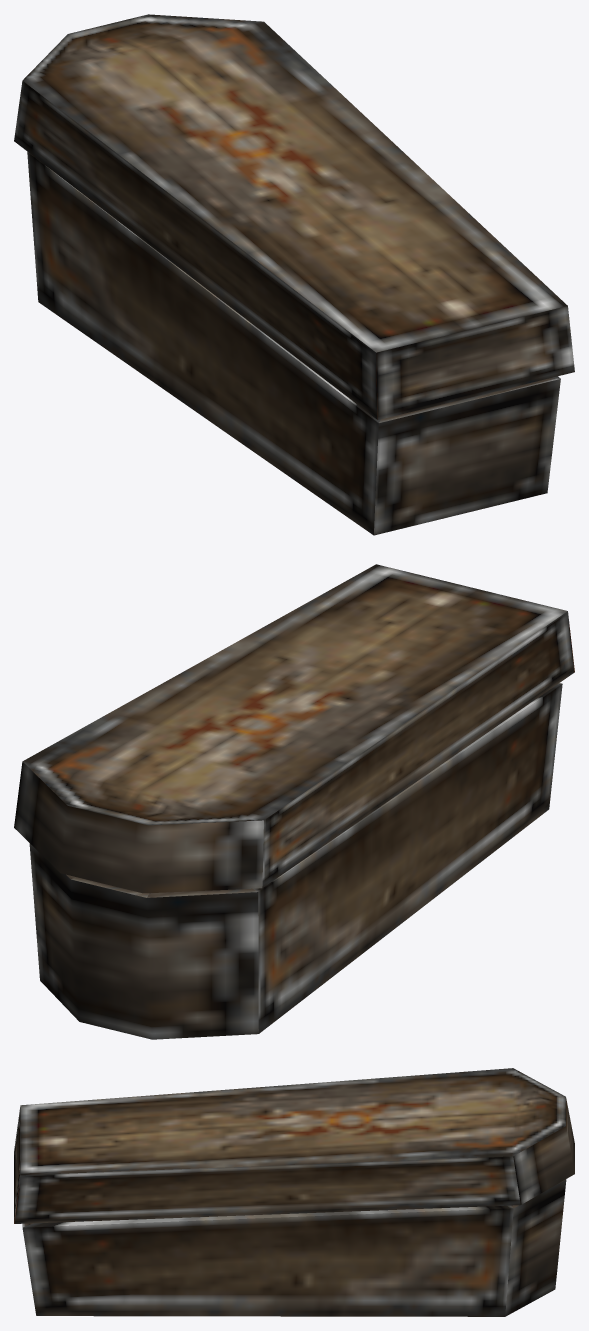
3 renders of one model, top to bottom at view 1: azimuth 30°, elevation 25°; view 2: azimuth 150°, elevation 25°; view 3: azimuth 270°, elevation 25°, orthographic. The views are drawn at different scales.
Parts seen in each view (by area): view 1: SMDImport; view 2: SMDImport; view 3: SMDImport.
Boxes of the visible parts, x1,y1,x2,y2 form: SMDImport: [14, 14, 574, 535]; SMDImport: [14, 564, 574, 1039]; SMDImport: [14, 1068, 574, 1316].
Bounding box in the file's own units: 93.92 × 83.5 × 245.
